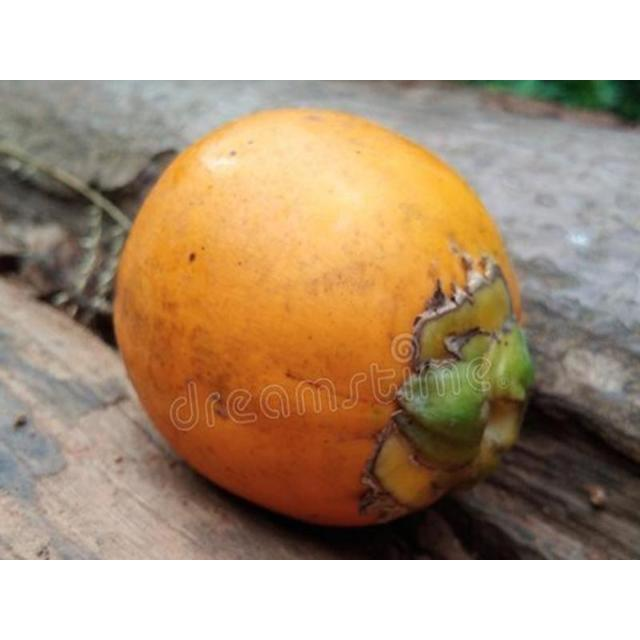good: (111, 107, 536, 531)
